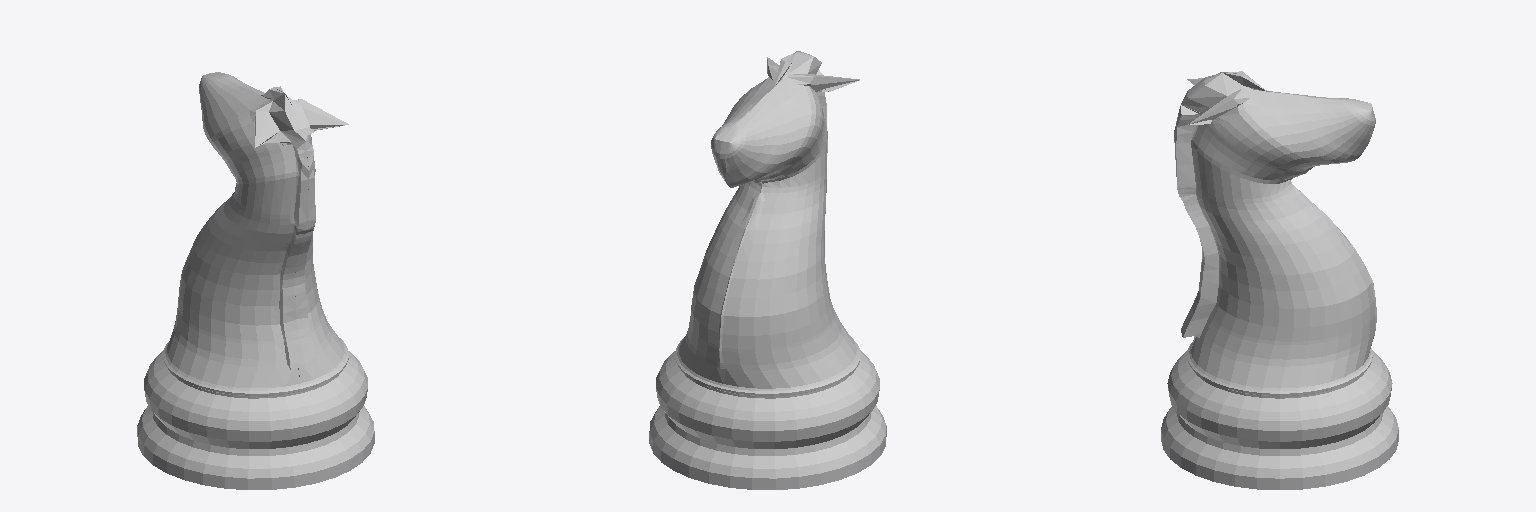
Rendered from knight2.obj.
The picture shows the model from 3 angles: view 1: azimuth 30°, elevation 25°; view 2: azimuth 150°, elevation 25°; view 3: azimuth 270°, elevation 25°; orthographic projection.
Parts seen in each view (by area): view 1: Light_Knight_2; view 2: Light_Knight_2; view 3: Light_Knight_2.
Boxes of the visible parts, <box> form: Light_Knight_2: <box>137,72,374,489</box>; Light_Knight_2: <box>649,51,886,489</box>; Light_Knight_2: <box>1161,71,1398,489</box>.
Bounding box in the file's own units: 1.24 × 2.12 × 1.24.